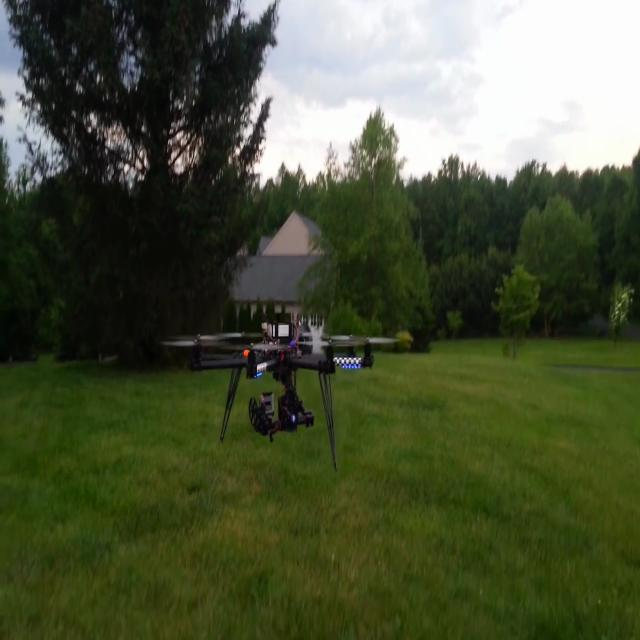drone: (164, 292, 400, 483)
